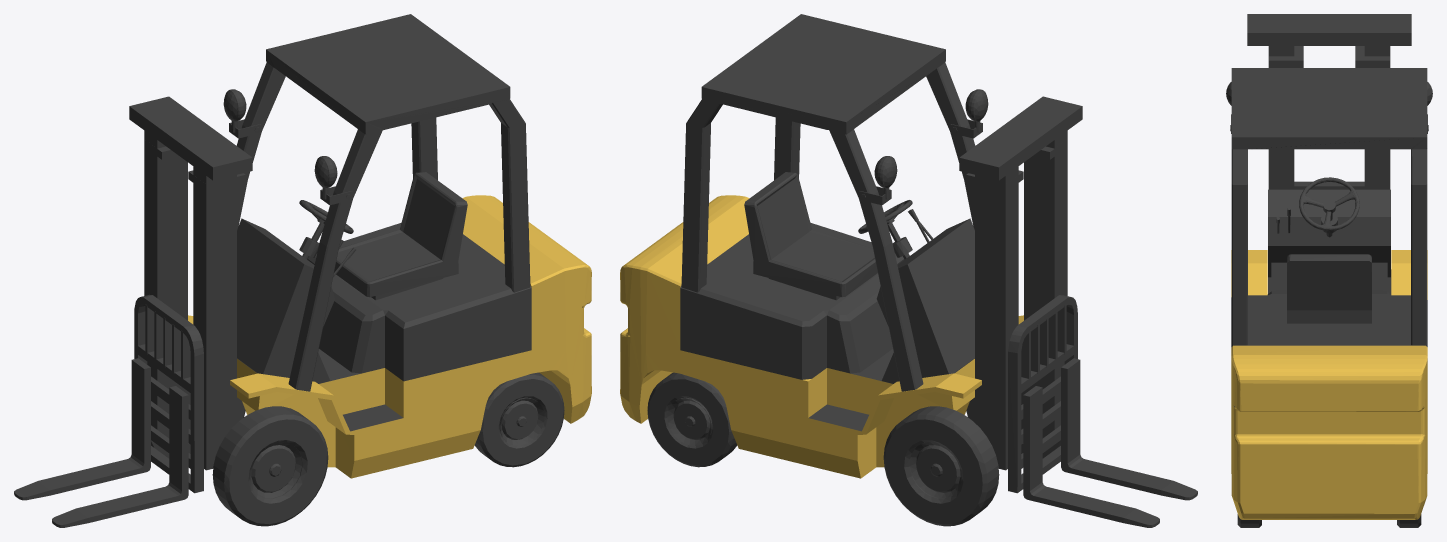
File: forklift.glb
3 views of the same model, side by side, from view 1: azimuth 30°, elevation 25°; view 2: azimuth 150°, elevation 25°; view 3: azimuth 270°, elevation 25° (orthographic).
Parts seen in each view (by area): view 1: back_shaft_; view 2: back_shaft_; view 3: back_shaft_.
Part boxes in pixels (x1=…): back_shaft_: x1=14, y1=14, x2=591, y2=527; back_shaft_: x1=620, y1=14, x2=1197, y2=527; back_shaft_: x1=1226, y1=14, x2=1432, y2=527.
Size of the model in its own units: 2.97 by 2.15 by 1.06.
